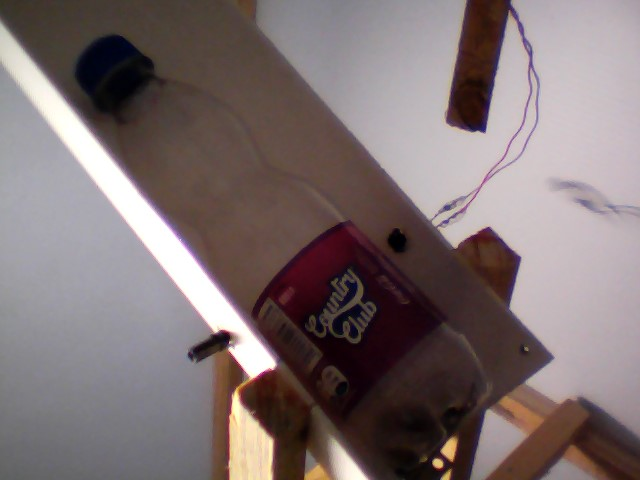plastico: (66, 28, 499, 475)
